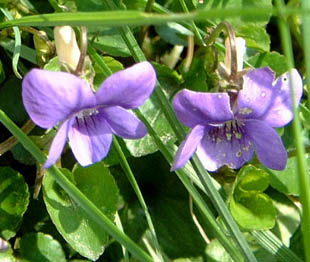violet: (20, 67, 157, 161), (174, 68, 287, 178)
